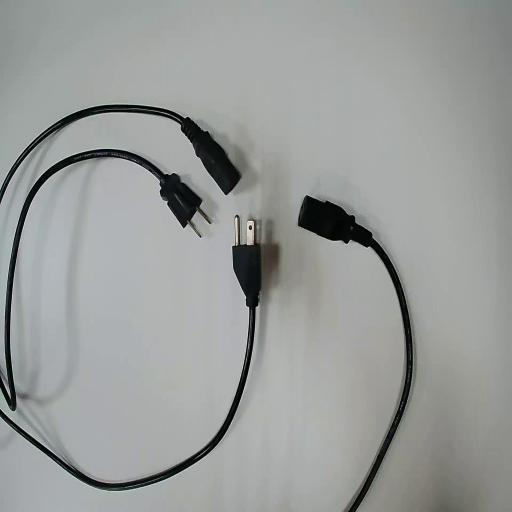wire: (0, 242, 261, 488), (0, 150, 200, 409), (299, 197, 412, 511), (0, 105, 240, 198)
